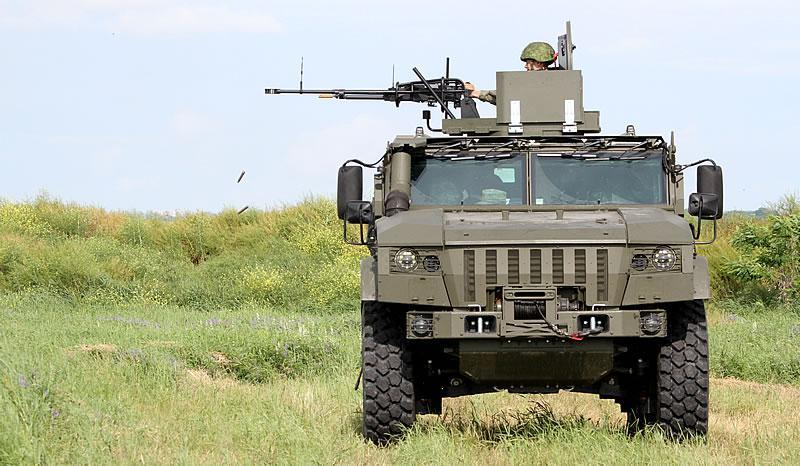armored_car: (252, 14, 756, 456)
